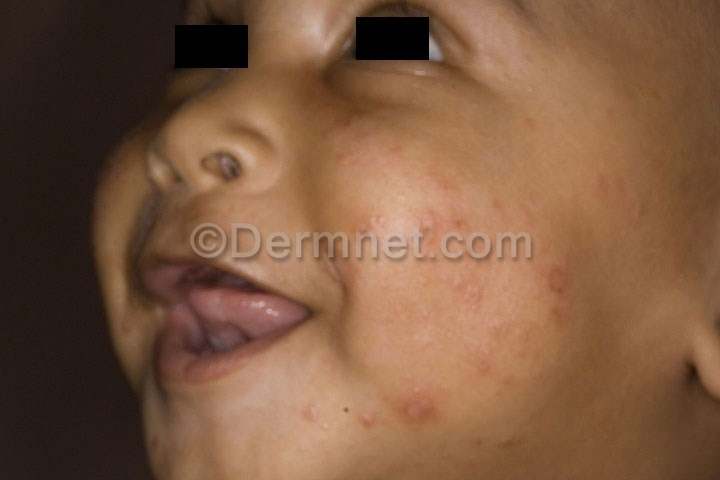Eczema: (337, 112, 662, 467), (289, 396, 330, 436)
